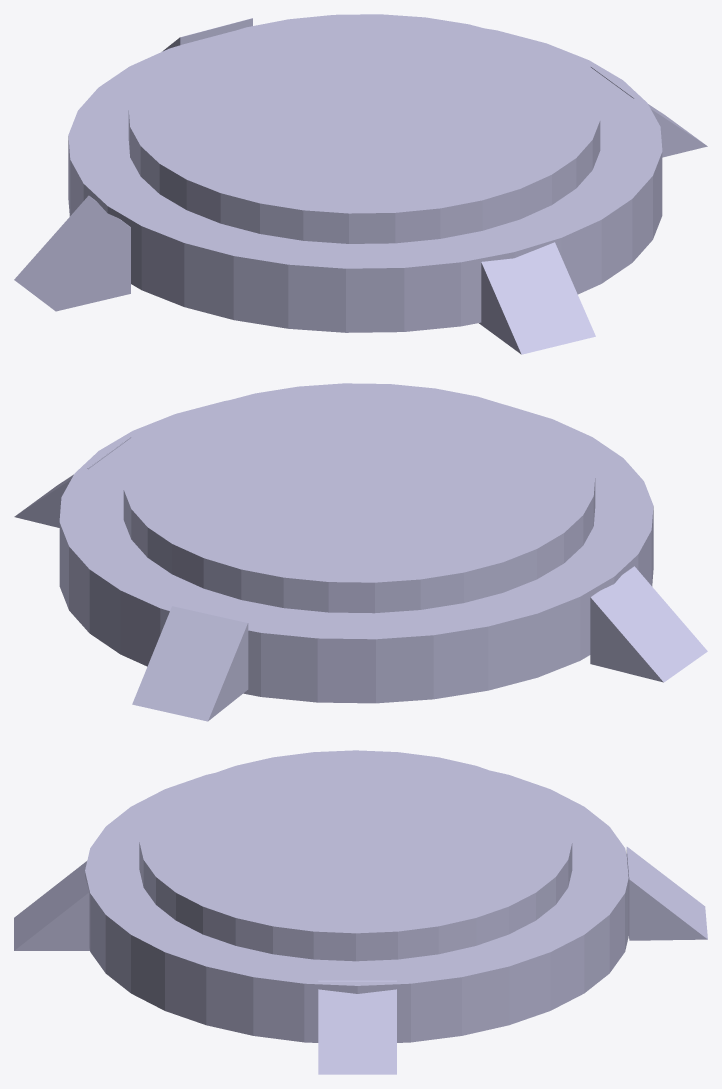
The model's file is shiny_telaport.glb.
3 views of the same model, one above another, from view 1: azimuth 30°, elevation 25°; view 2: azimuth 150°, elevation 25°; view 3: azimuth 270°, elevation 25° (orthographic). The views are drawn at different scales.
Parts seen in each view (by area): view 1: Cylinder; view 2: Cylinder; view 3: Cylinder.
Part boxes in pixels (x1,y1,x2,y2): Cylinder: (14,14,707,354); Cylinder: (14,383,707,721); Cylinder: (14,750,707,1074).
Bounding box in the file's own units: 3.69 × 0.5561 × 3.71.
